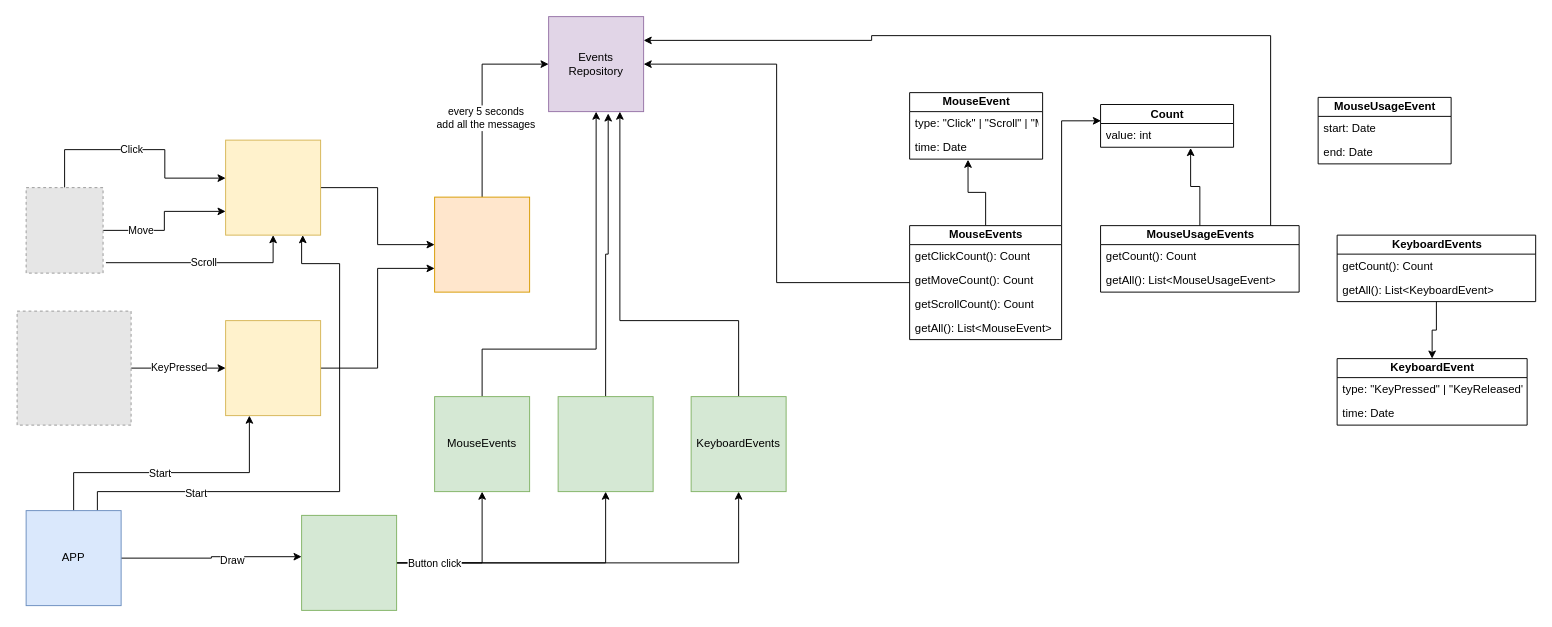
Some shapes in this 1552 by 627 pixel diagram are drawn without their labels. Grey dashed boxes stand in for pictures. The shapes that lost their labels are listed below. From the top down, each one's centre as x and y in pixels, then its label:
the point at 273,187: Mouse Event Listener
the point at 482,244: Events Queue
the point at 273,368: Keyboard Event Listener
the point at 605,444: UsageEvents
the point at 349,562: UI
